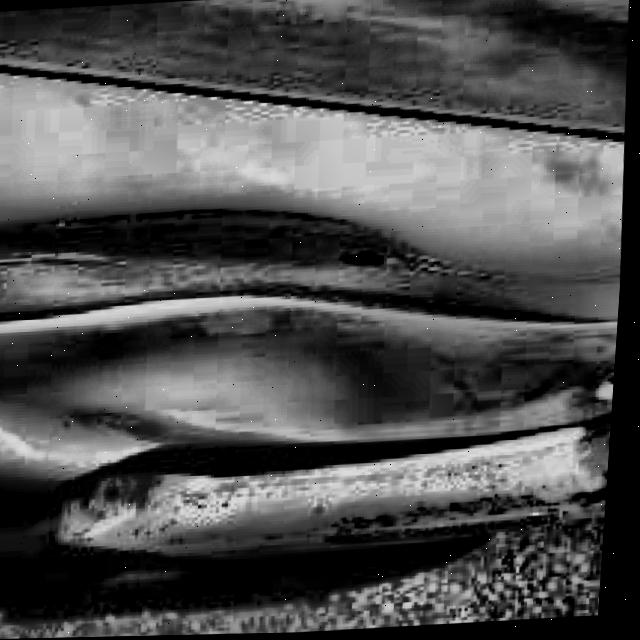bumper_dent: (0, 173, 628, 464)
